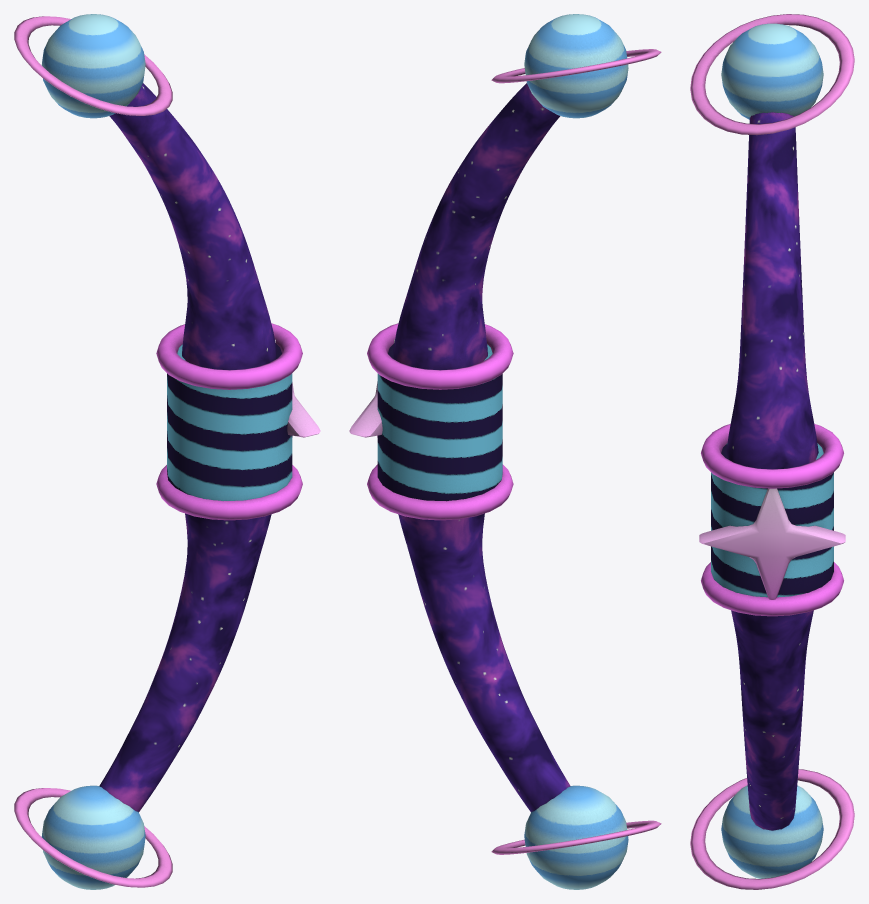
The model's file is Galaxy Bow.fbx.
The picture shows the model from 3 angles, left to right: view 1: azimuth 30°, elevation 25°; view 2: azimuth 150°, elevation 25°; view 3: azimuth 270°, elevation 25°; orthographic projection. The views are drawn at different scales.
Visible parts, largest first — view 1: Galaxy Bow; view 2: Galaxy Bow; view 3: Galaxy Bow.
Part boxes in pixels (x1,y1,x2,y2): Galaxy Bow: (14,14,320,889); Galaxy Bow: (349,14,661,889); Galaxy Bow: (690,14,854,889).
Bounding box in the file's own units: 4.77 × 14.6 × 2.57.
1 material, 1 textured.
